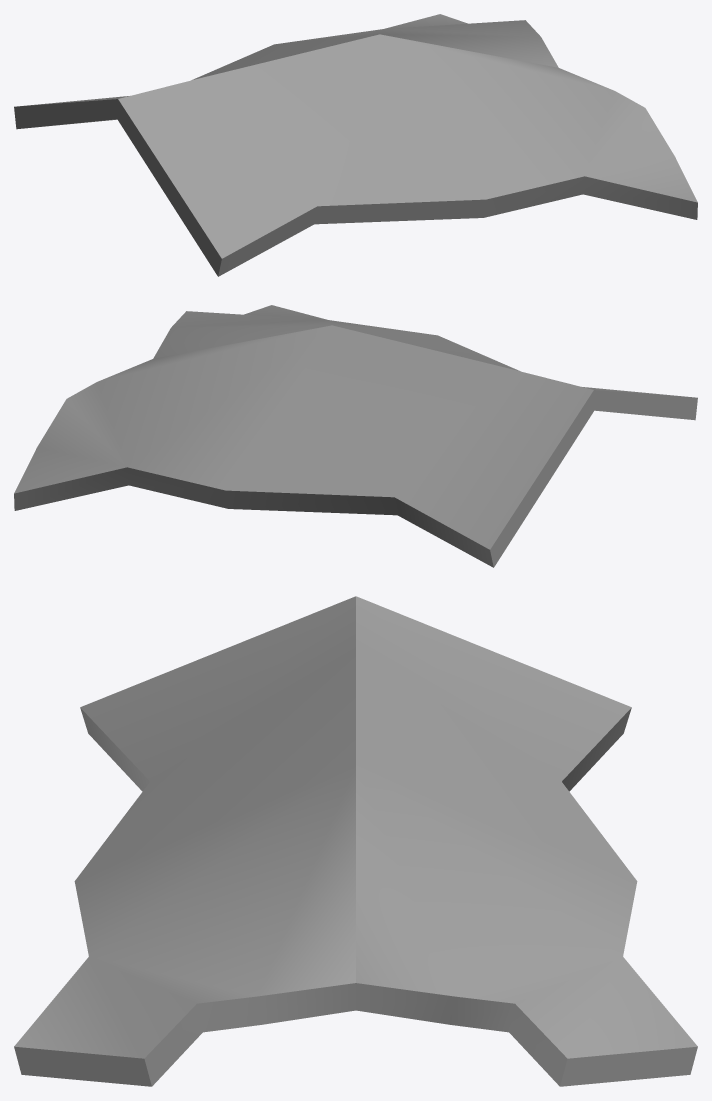
File: Chest Broken 1.fbx
The picture shows the model from 3 angles, top to bottom: view 1: azimuth 30°, elevation 25°; view 2: azimuth 150°, elevation 25°; view 3: azimuth 270°, elevation 25°; orthographic projection. The views are drawn at different scales.
Visible parts, largest first — view 1: Chest_Broken_1; view 2: Chest_Broken_1; view 3: Chest_Broken_1.
Part boxes in pixels (bbox=[...]): Chest_Broken_1: bbox=[14, 14, 697, 276]; Chest_Broken_1: bbox=[14, 305, 697, 567]; Chest_Broken_1: bbox=[14, 596, 697, 1086].
Size of the model in its own units: 55.05 by 15.36 by 51.16.
1 material, 1 textured.
